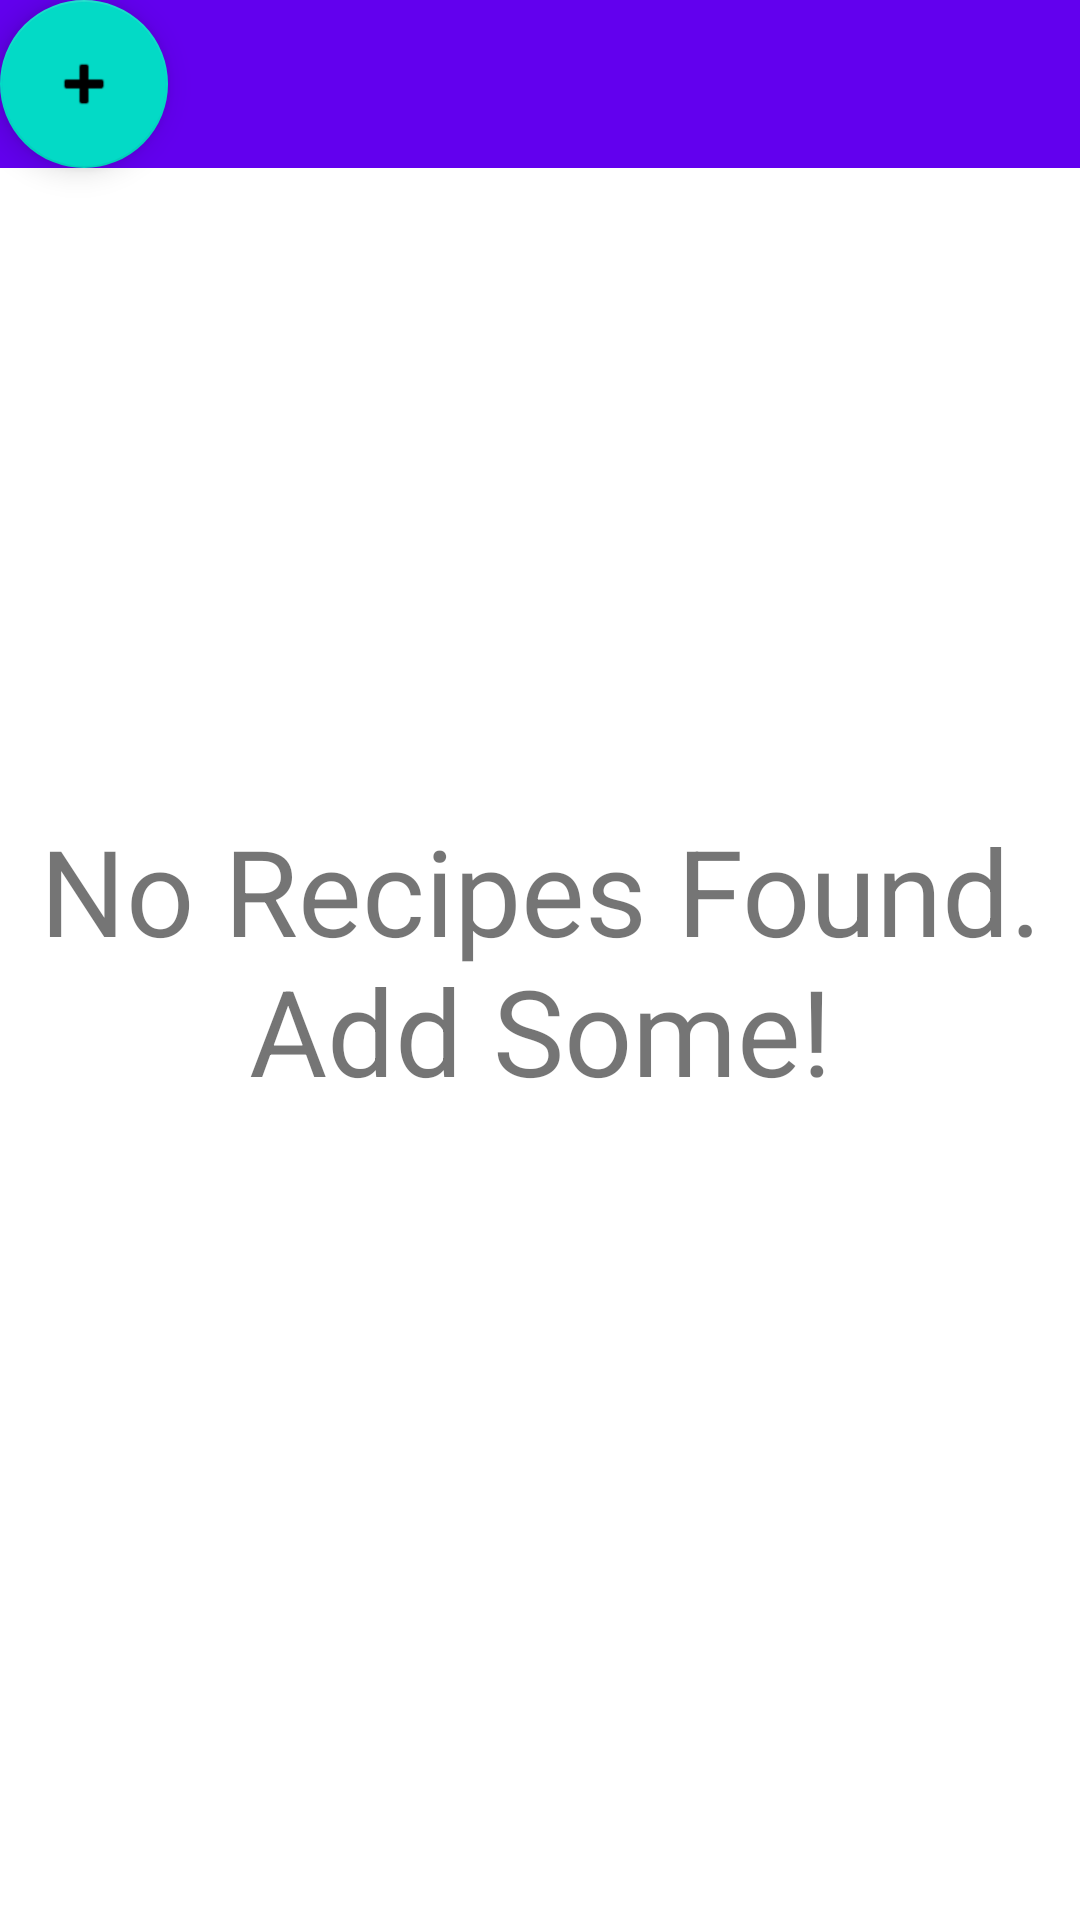

Where to tap for icons on this 1080×1920 app screen, as [x,y]:
add: [84,84]
